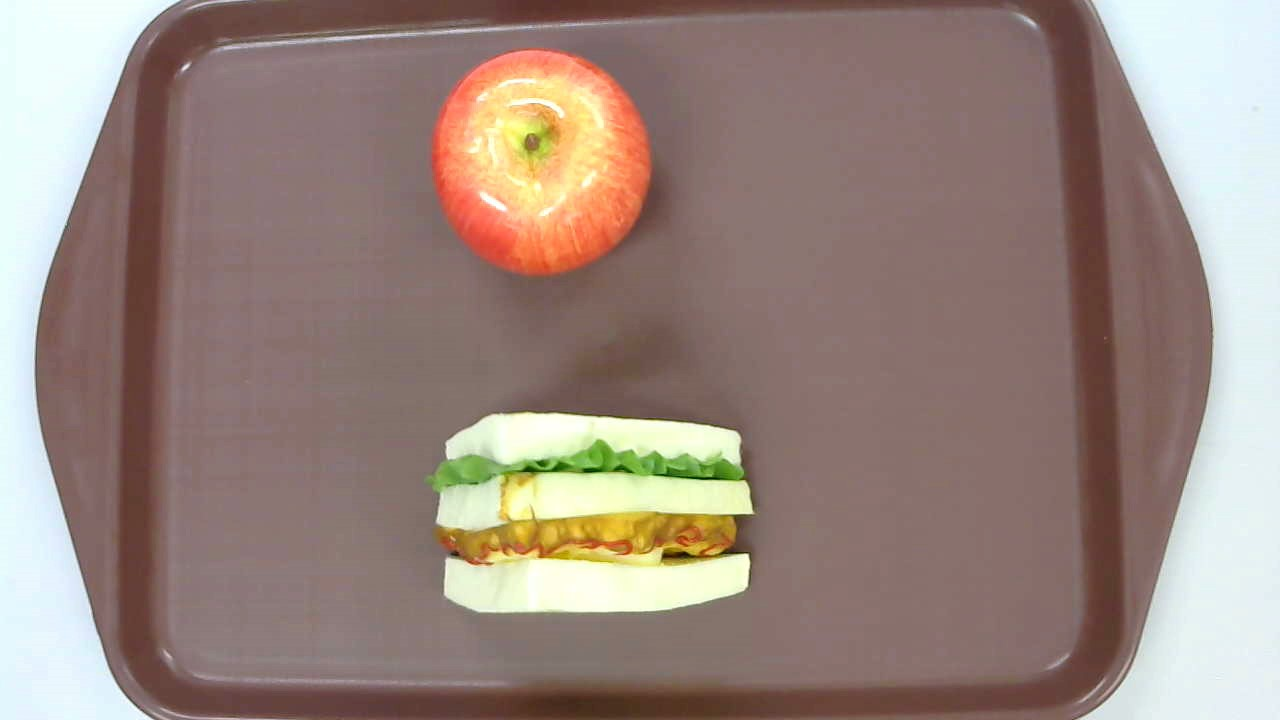red apple: (429, 48, 652, 276)
sandwich: (424, 411, 755, 616)
